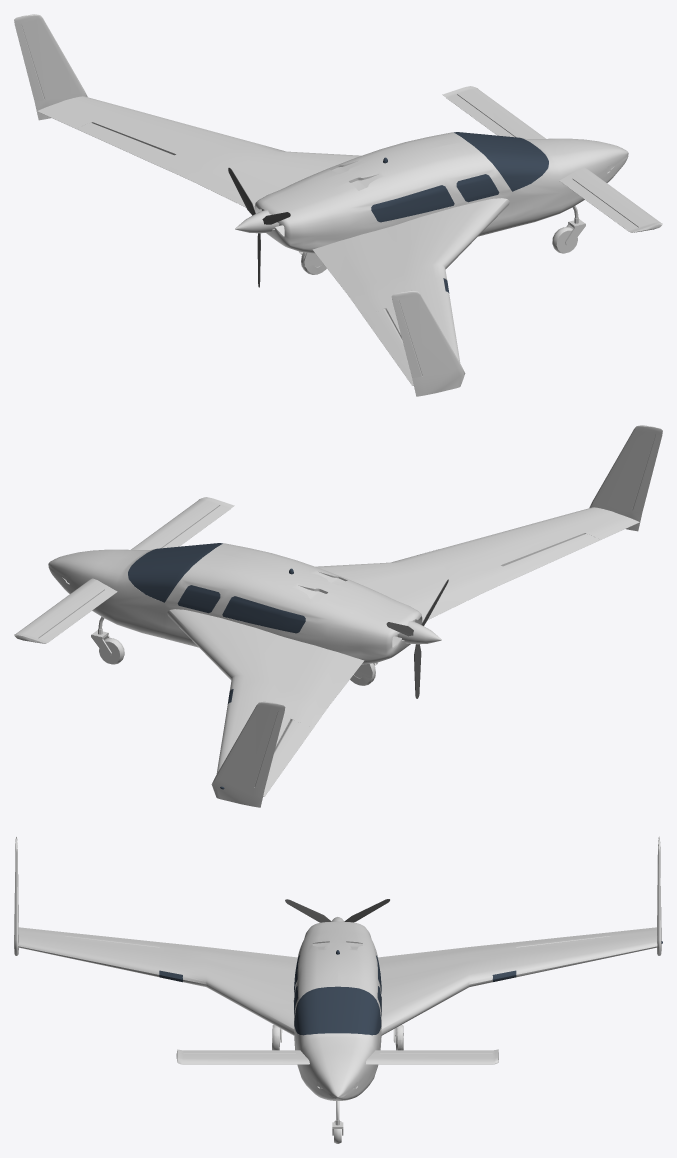
File: velo.glb
3 renders of one model, top to bottom at view 1: azimuth 30°, elevation 25°; view 2: azimuth 150°, elevation 25°; view 3: azimuth 270°, elevation 25°, orthographic. The views are drawn at different scales.
Parts seen in each view (by area): view 1: body, glass, spin; view 2: body, glass, spin; view 3: body, glass, spin.
Part boxes in pixels (x1,y1,x2,y2): body: (14,14,662,396); glass: (371,132,548,293); spin: (228,167,290,287); body: (14,425,662,807); glass: (128,543,305,789); spin: (386,579,448,698); body: (14,836,661,1143); glass: (159,941,662,1035); spin: (285,899,389,922).
Bounding box in the file's own units: 1.42 × 0.5871 × 2.2.
